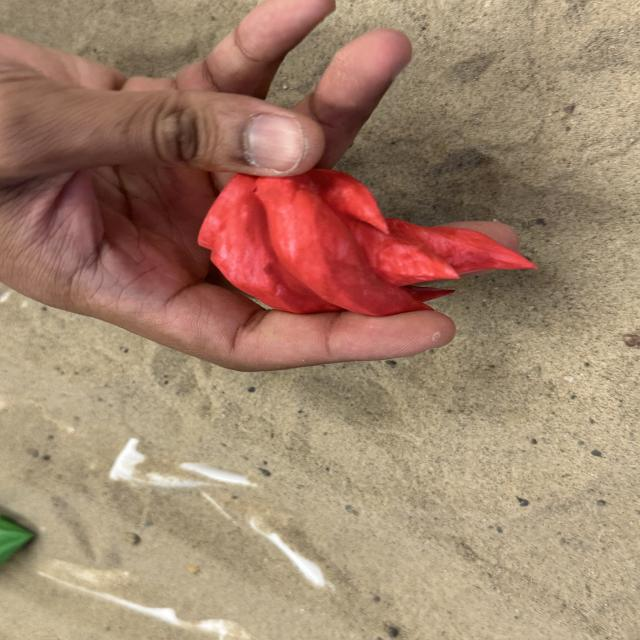fire: (198, 167, 539, 317)
